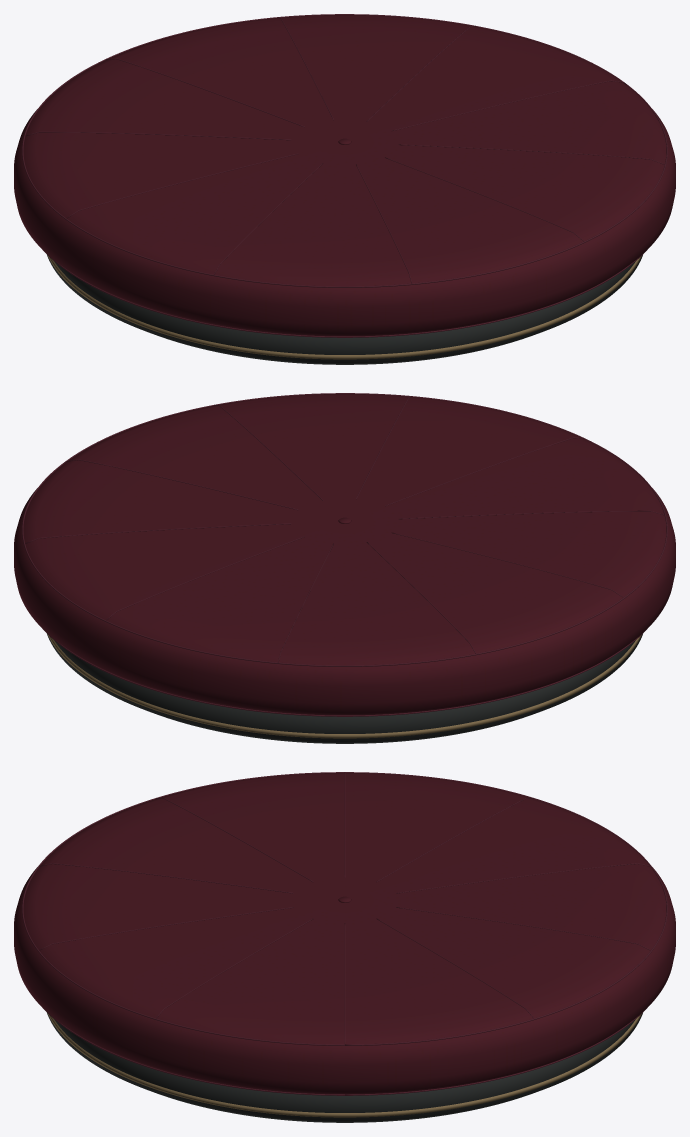
The model's file is burgundy-seating-island.glb.
The picture shows the model from 3 angles, top to bottom: view 1: azimuth 30°, elevation 25°; view 2: azimuth 150°, elevation 25°; view 3: azimuth 270°, elevation 25°; orthographic projection.
Parts seen in each view (by area): view 1: Oxblood upholstered island cushion, Floating graphite plinth, Fine antique brass base reveal, Soft upholstery welt.001, Soft upholstery welt; view 2: Oxblood upholstered island cushion, Floating graphite plinth, Fine antique brass base reveal, Soft upholstery welt.001, Soft upholstery welt; view 3: Oxblood upholstered island cushion, Floating graphite plinth, Fine antique brass base reveal, Soft upholstery welt.001, Soft upholstery welt.
Boxes of the visible parts, x1,y1,x2,y2 form: Oxblood upholstered island cushion: (14, 15, 675, 336); Floating graphite plinth: (47, 255, 642, 364); Fine antique brass base reveal: (48, 256, 641, 359); Soft upholstery welt.001: (22, 14, 667, 287); Soft upholstery welt: (43, 250, 646, 337); Oxblood upholstered island cushion: (14, 394, 675, 715); Floating graphite plinth: (47, 634, 642, 743); Fine antique brass base reveal: (48, 635, 641, 738); Soft upholstery welt.001: (22, 393, 667, 666); Soft upholstery welt: (43, 629, 646, 716); Oxblood upholstered island cushion: (14, 773, 675, 1094); Floating graphite plinth: (47, 1013, 642, 1122); Fine antique brass base reveal: (48, 1014, 641, 1117); Soft upholstery welt.001: (22, 772, 667, 1045); Soft upholstery welt: (43, 1008, 646, 1095).
Size of the model in its own units: 2.7 by 0.457 by 2.7.
Materials: 4 (1 with a texture image).
